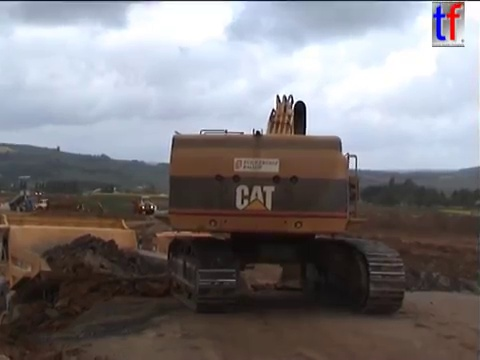excavator: (162, 92, 410, 316)
truck: (1, 211, 219, 360), (148, 225, 247, 308), (34, 196, 80, 214), (120, 195, 159, 216)
